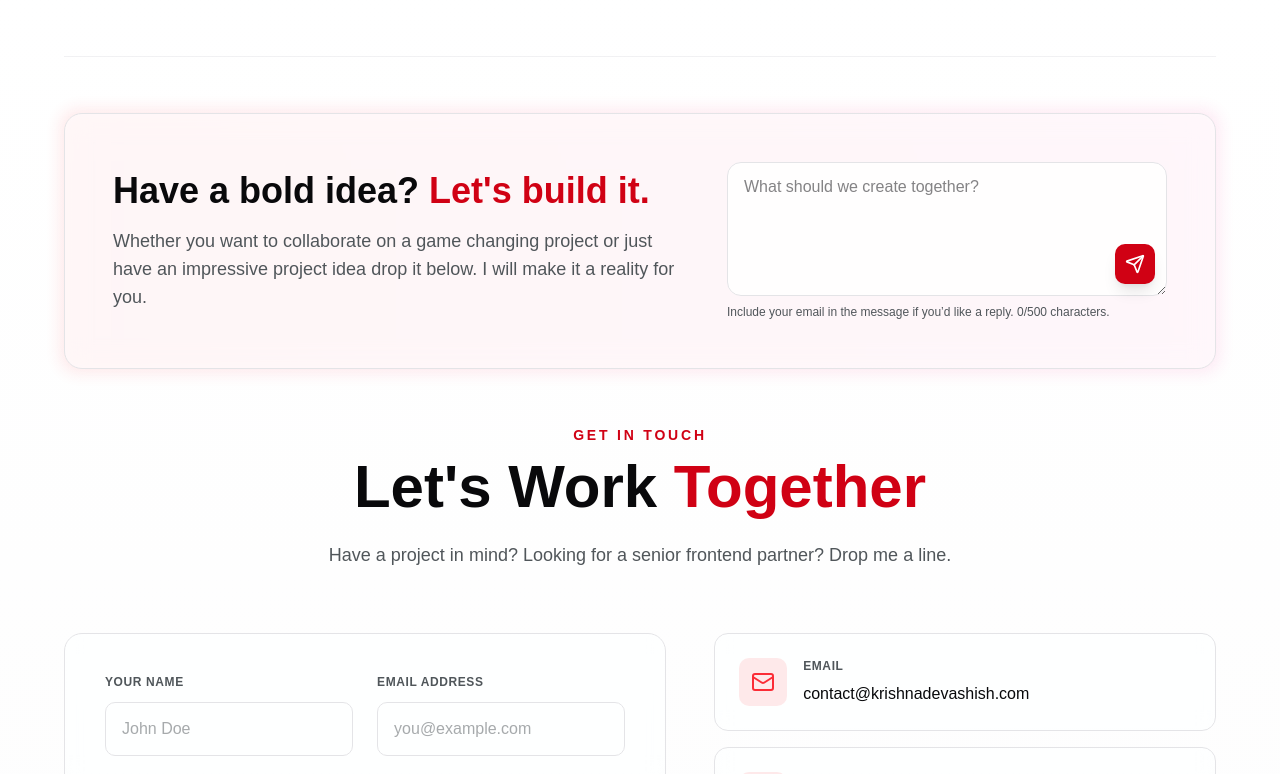
it: guards against duplicate submissions and reports a rejected request
Type "Test Visitor" into the field labelled "Your Name" at (229, 729), box [105, 702, 353, 756]
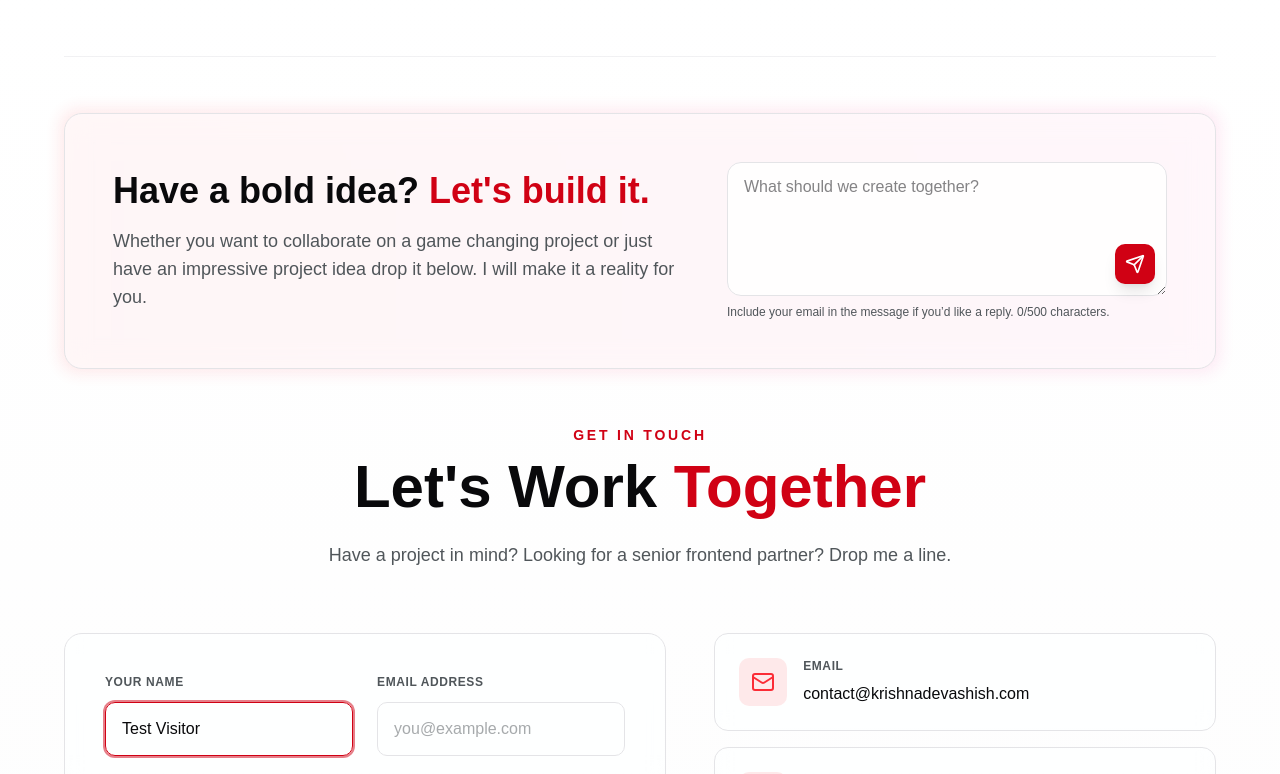
Type "visitor@example.com" into the field labelled "Email Address" at (501, 729), box [377, 702, 625, 756]
(page scrolled)
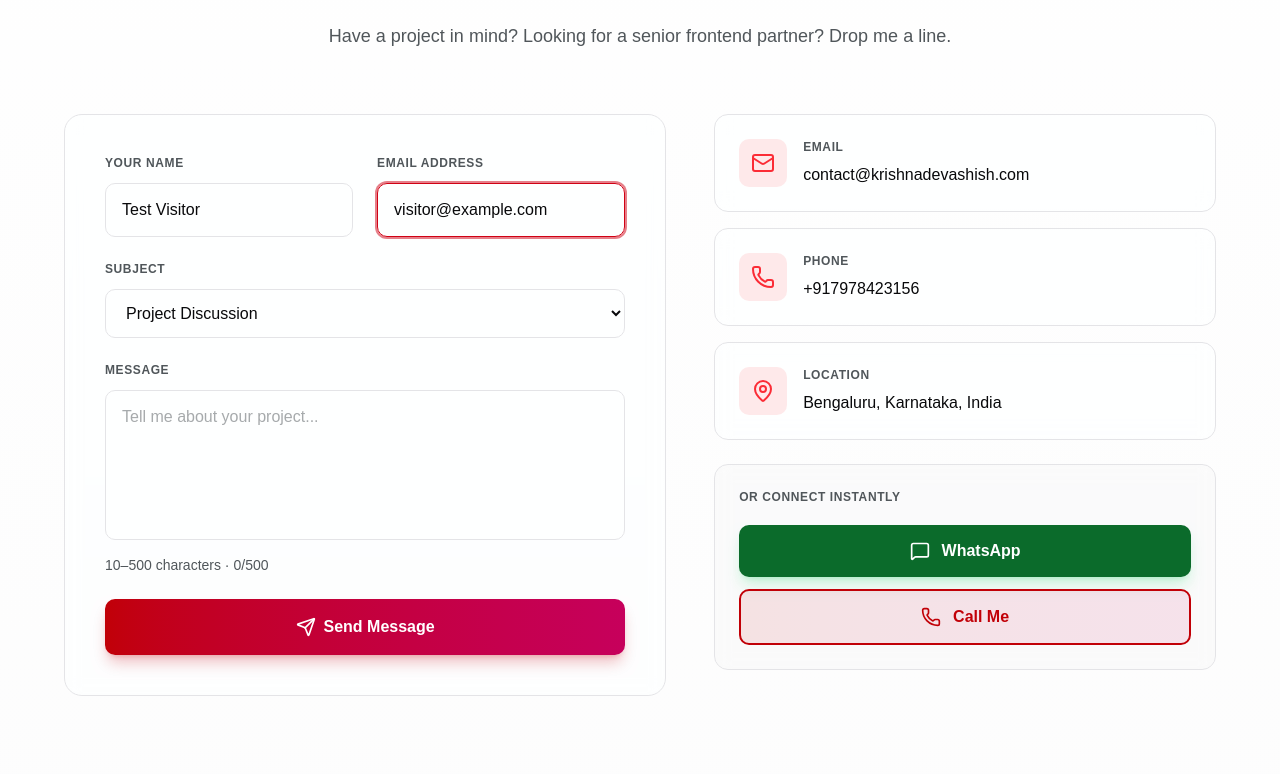
Type "I have a project to discuss." into the text box labelled "Message" at (365, 465), box [105, 390, 625, 540]
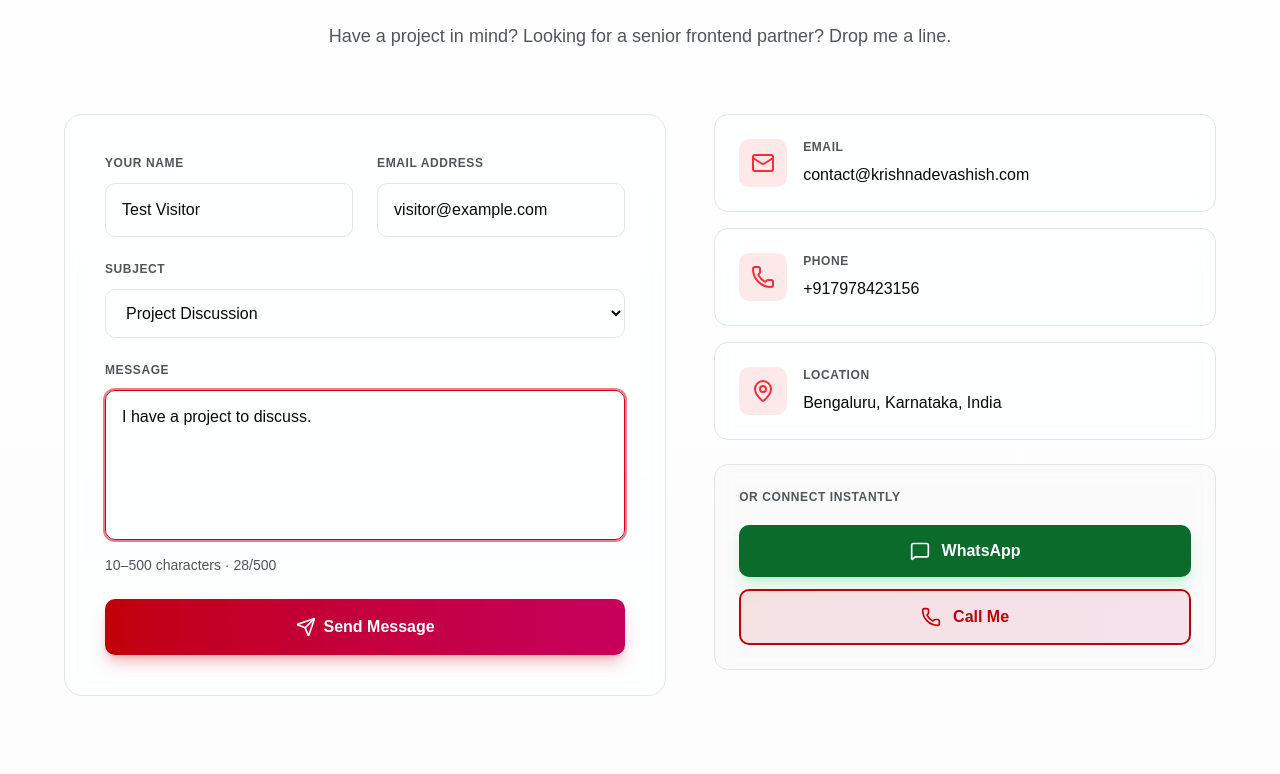
Click the button "Send Message" at (365, 627), box [105, 599, 625, 655]
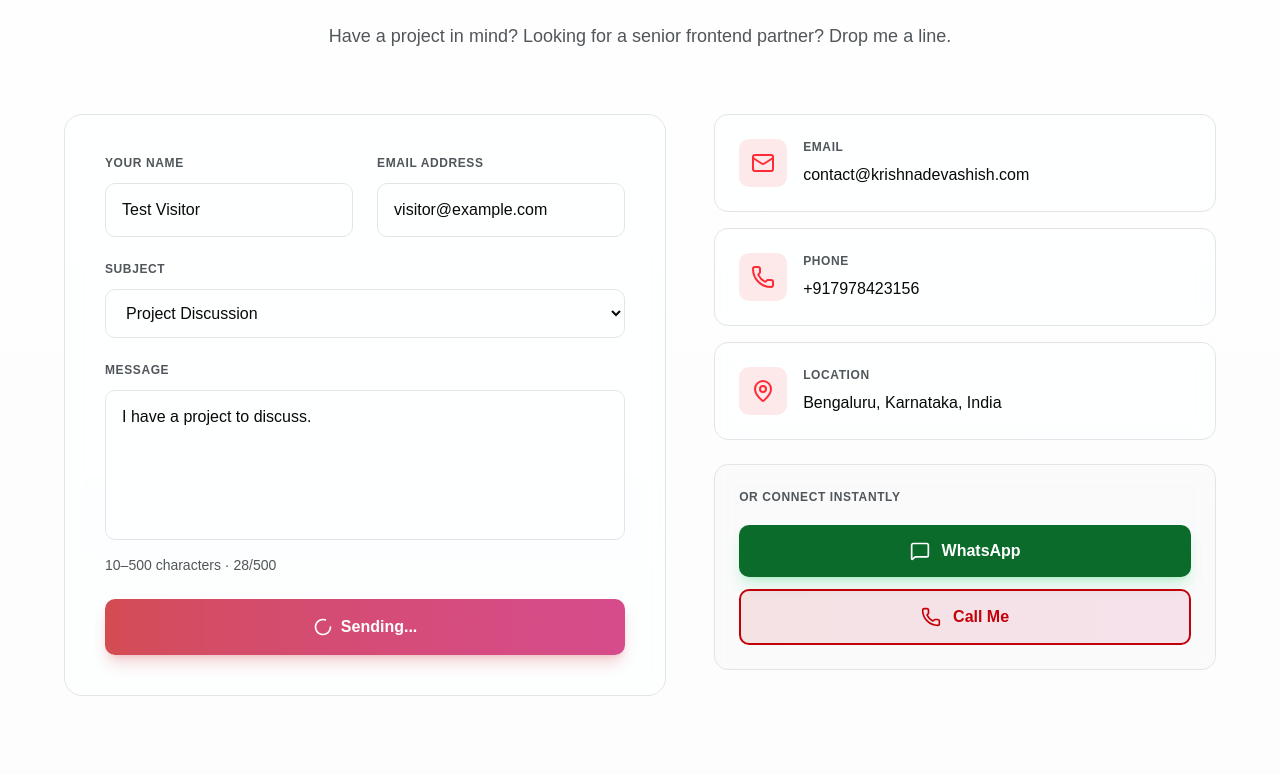
Submit the form "Sending...", box [105, 155, 625, 655]
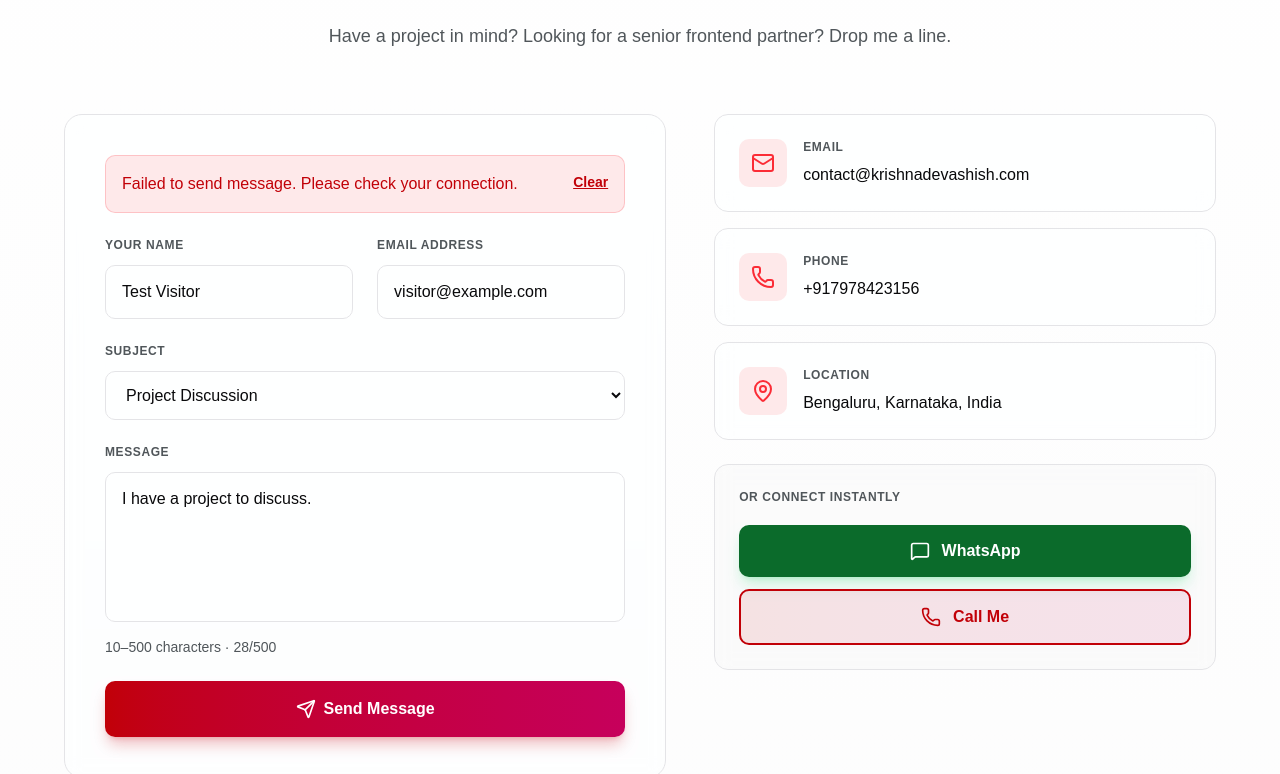
Expected: the message shows "check your connection", [122, 175, 518, 192]
